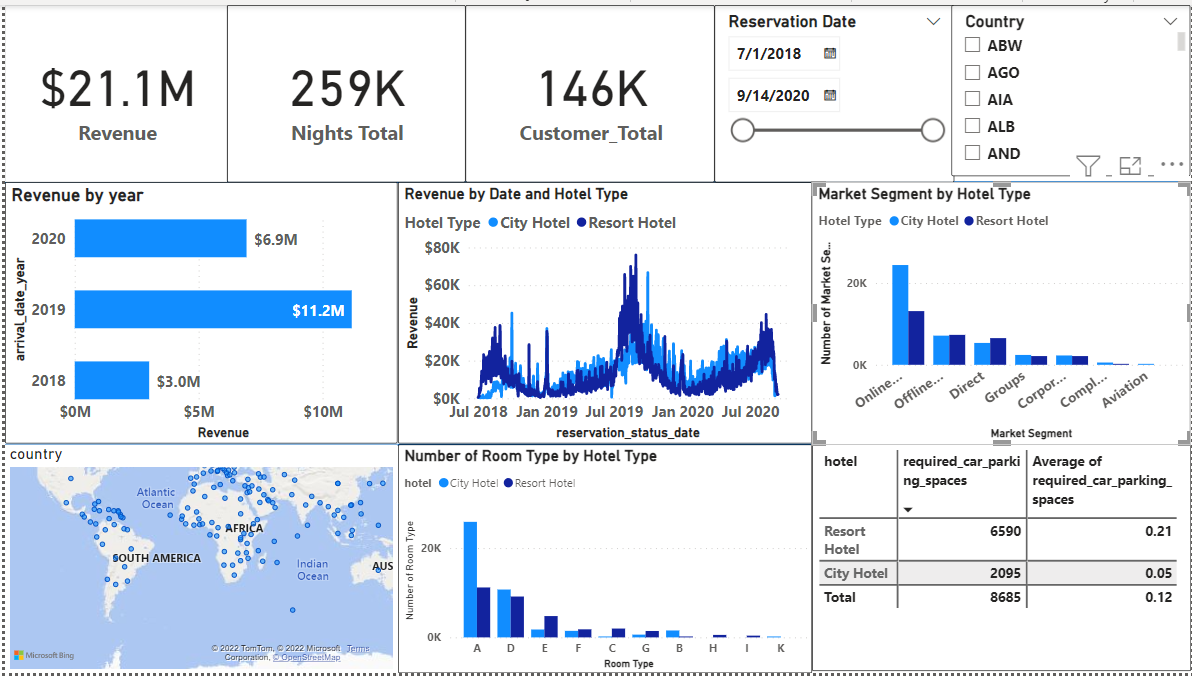

What the dashboard file says about the page in this screenshot:
{"tool":"powerbi","page":{"name":"Hotel_Revenue Dashboard","canvas":[1280,720],"ordinal":0},"visuals":[{"type":"shape","box":[0,184.8,1280,13.4],"z":0},{"type":"shape","box":[0,465.3,1280,16.8],"z":1000},{"type":"card","title":"Revenue","fields":{"Values":["Sum(hotel_revenue_not_canceled.revenue)"]},"box":[0,0,240.2,191.5],"z":2000},{"type":"card","fields":{"Values":["hotel_revenue_not_canceled.Nights Total"]},"box":[240.2,0,257,191.5],"z":3000},{"type":"card","fields":{"Values":["Sum(hotel_revenue_not_canceled.Customer_Total)"]},"box":[497.2,0,268.8,191.5],"z":4000},{"type":"barChart","title":"Revenue by year","fields":{"Y":["Sum(hotel_revenue_not_canceled.Revenue)"],"Category":["hotel_revenue_not_canceled.arrival_date_year"]},"box":[0,191.5,423.3,282.2],"z":5000},{"type":"lineChart","title":"Revenue by Date and Hotel Type","fields":{"Series":["hotel_revenue_not_canceled.hotel"],"Y":["Sum(hotel_revenue_not_canceled.Revenue)"],"Category":["hotel_revenue_not_canceled.reservation_status_date"]},"box":[423.3,191.5,446.8,282.2],"z":6000},{"type":"slicer","fields":{"Values":["hotel_revenue_not_canceled.reservation_status_date"]},"box":[766,0,258.7,191.5],"z":7000},{"type":"clusteredColumnChart","title":"Market Segment by Hotel Type","fields":{"Category":["hotel_revenue_not_canceled.market_segment"],"Y":["CountNonNull(hotel_revenue_not_canceled.market_segment)"],"Series":["hotel_revenue_not_canceled.hotel"]},"box":[870.5,190.9,409.3,283.1],"z":8000},{"type":"map","fields":{"Category":["hotel_revenue_not_canceled.country"]},"box":[0,473.7,423.3,246.9],"z":9000},{"type":"slicer","fields":{"Values":["hotel_revenue_not_canceled.country"]},"box":[1021.3,0,258.7,184.8],"z":10000},{"type":"clusteredColumnChart","title":"Number of Room Type by Hotel Type","fields":{"Category":["hotel_revenue_not_canceled.assigned_room_type"],"Y":["CountNonNull(hotel_revenue_not_canceled.assigned_room_type)"],"Series":["hotel_revenue_not_canceled.hotel"]},"box":[423.3,473.7,446.8,246.9],"z":11000},{"type":"tableEx","fields":{"Values":["hotel_revenue_not_canceled.hotel","Sum(hotel_revenue_not_canceled.required_car_parking_spaces)","Avg(hotel_revenue_not_canceled.required_car_parking_spaces)"]},"box":[869.9,473.2,410.1,245.7],"z":12000}]}

Visuals, with their boxes in screenshot pixels (x1, y1, x2, y2), scaled from the page's 1280x720 canvas onto the 1192x684 screenshot:
shape: x1=0, y1=176, x2=1191, y2=188
shape: x1=0, y1=442, x2=1191, y2=458
"Revenue" card: x1=0, y1=0, x2=224, y2=182
card - hotel_revenue_not_canceled.Nights Total: x1=224, y1=0, x2=463, y2=182
card - Sum(hotel_revenue_not_canceled.Customer_Total): x1=463, y1=0, x2=713, y2=182
"Revenue by year" barChart: x1=0, y1=182, x2=394, y2=450
"Revenue by Date and Hotel Type" lineChart: x1=394, y1=182, x2=810, y2=450
slicer - hotel_revenue_not_canceled.reservation_status_date: x1=713, y1=0, x2=954, y2=182
"Market Segment by Hotel Type" clusteredColumnChart: x1=811, y1=181, x2=1191, y2=450
map - hotel_revenue_not_canceled.country: x1=0, y1=450, x2=394, y2=683
slicer - hotel_revenue_not_canceled.country: x1=951, y1=0, x2=1191, y2=176
"Number of Room Type by Hotel Type" clusteredColumnChart: x1=394, y1=450, x2=810, y2=683
tableEx - hotel_revenue_not_canceled.hotel x Sum(hotel_revenue_not_canceled.required_car_parking_spaces): x1=810, y1=450, x2=1191, y2=683
